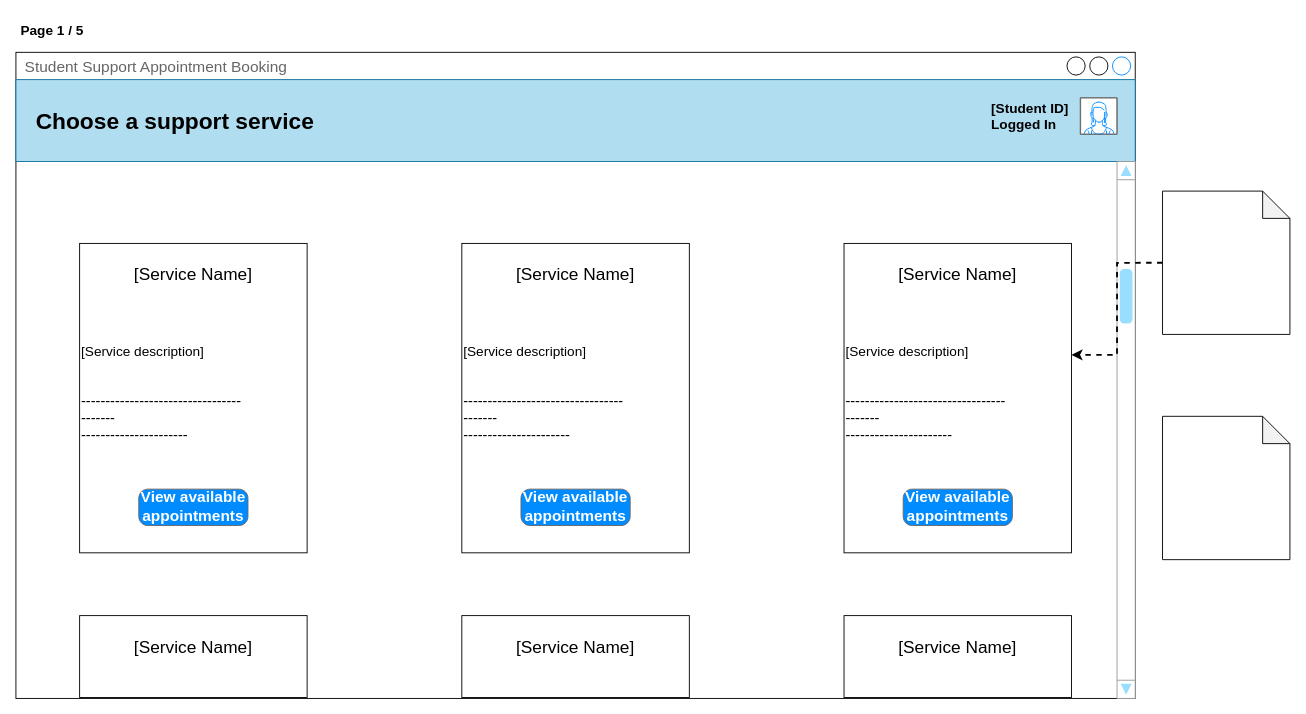
This 1306x714 diagram has some shape labels left out. Each missing label, with the box of its shape:
- FR-03 - each service shows a description: (1162, 190, 1290, 334)
- OPEN QUESTION: How many support services will the system include?: (1162, 415, 1290, 560)
